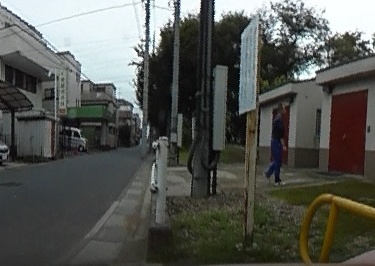person: (265, 99, 287, 184)
